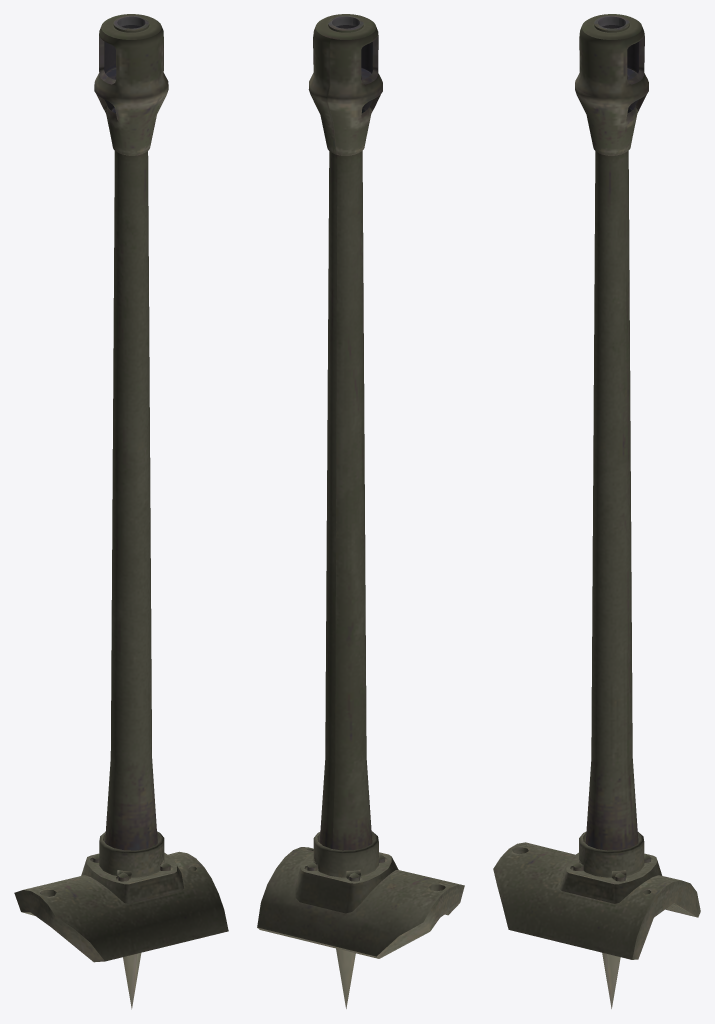
File: Gun_09.glb
3 renders of one model, left to right at view 1: azimuth 30°, elevation 25°; view 2: azimuth 150°, elevation 25°; view 3: azimuth 330°, elevation 25°, orthographic.
Parts seen in each view (by area): view 1: set_0_group_0; view 2: set_0_group_0; view 3: set_0_group_0.
Part boxes in pixels (box(x1,y1,x2,y2)): set_0_group_0: box(14, 14, 228, 1009); set_0_group_0: box(257, 14, 464, 1008); set_0_group_0: box(493, 14, 700, 1008).
Size of the model in its own units: 0.8031 by 4.85 by 0.6119.
1 material, 1 textured.
